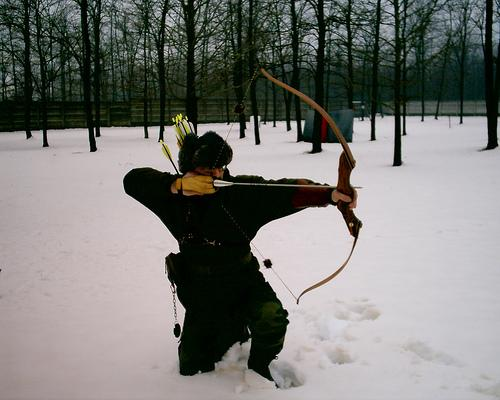person: (122, 132, 359, 386)
